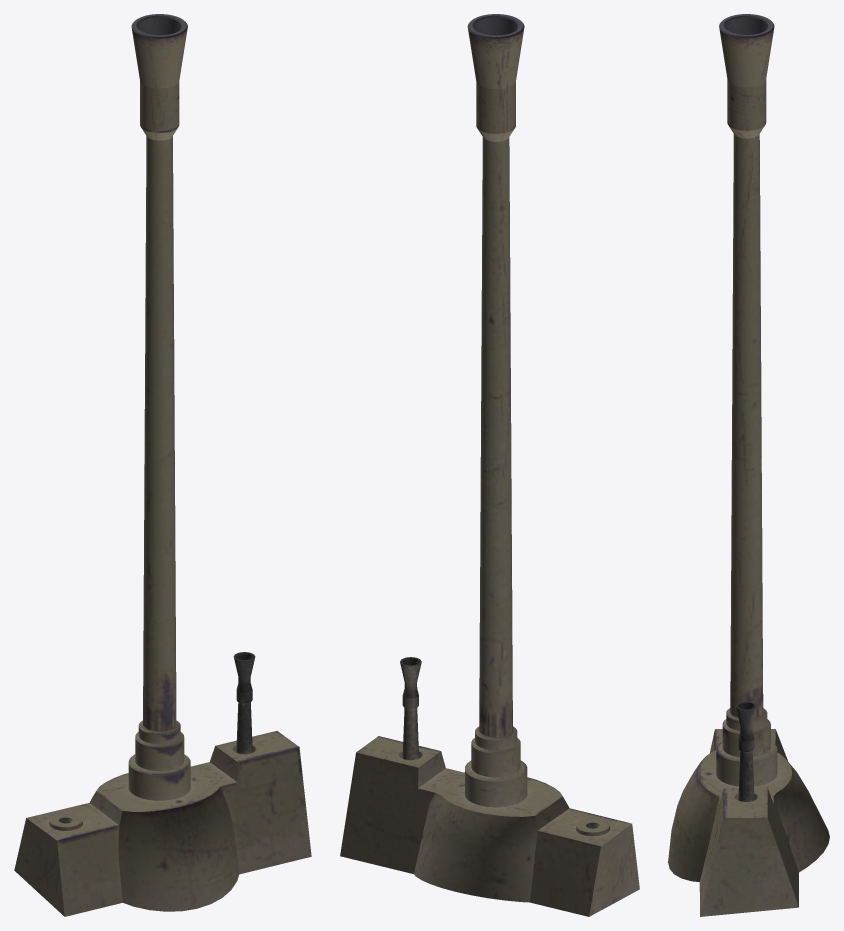
Rendered from Gun_05.glb.
3 renders of one model, left to right at view 1: azimuth 30°, elevation 25°; view 2: azimuth 150°, elevation 25°; view 3: azimuth 270°, elevation 25°, orthographic. The views are drawn at different scales.
Visible parts, largest first — view 1: set_0_group_0; view 2: set_0_group_0; view 3: set_0_group_0.
Part boxes in pixels (x1,y1,x2,y2): set_0_group_0: (14, 14, 311, 916); set_0_group_0: (340, 14, 639, 916); set_0_group_0: (668, 14, 829, 916).
Bounding box in the file's own units: 0.6387 × 2.11 × 0.3693.
Materials: 1 (1 with a texture image).
